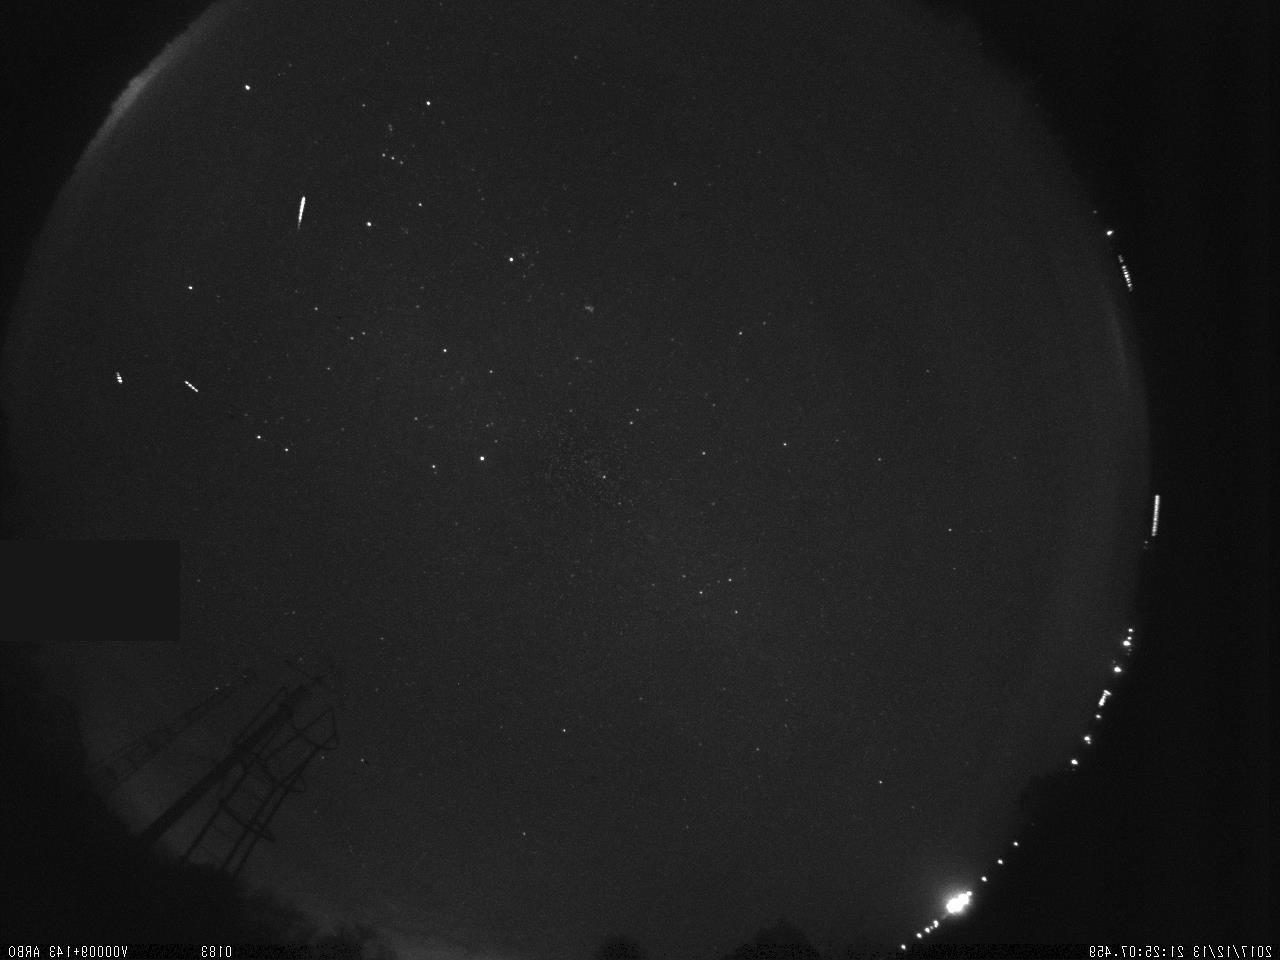meteor: (289, 189, 313, 234)
satelite: (180, 372, 201, 395), (109, 366, 128, 389)
